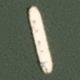ship: (0, 2, 19, 77)
